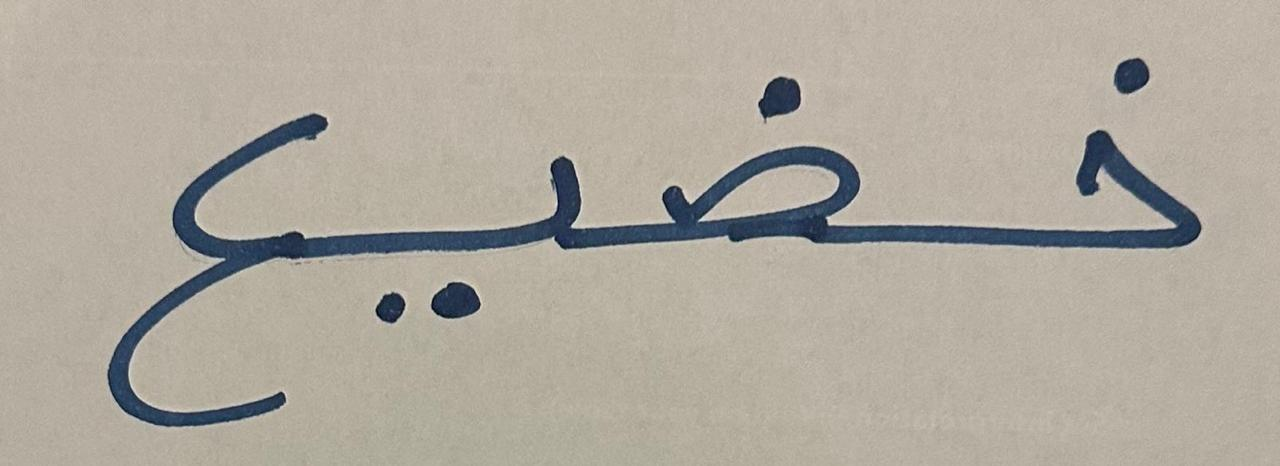ain: (94, 33, 348, 444)
dad: (622, 7, 928, 307)
lam: (932, 19, 1235, 313)
zah: (351, 56, 616, 335)
